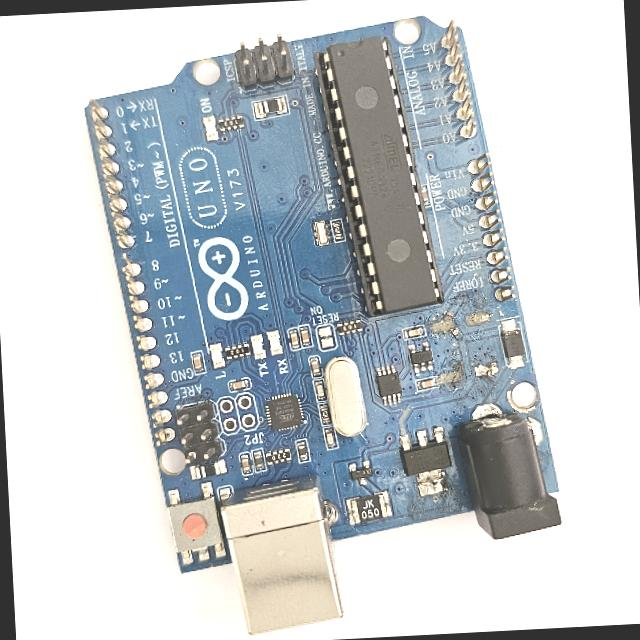missing_analog_pins: (433, 13, 521, 309)
missing_capacitors: (425, 305, 506, 393)
missing_digital_pins: (82, 90, 180, 454)
